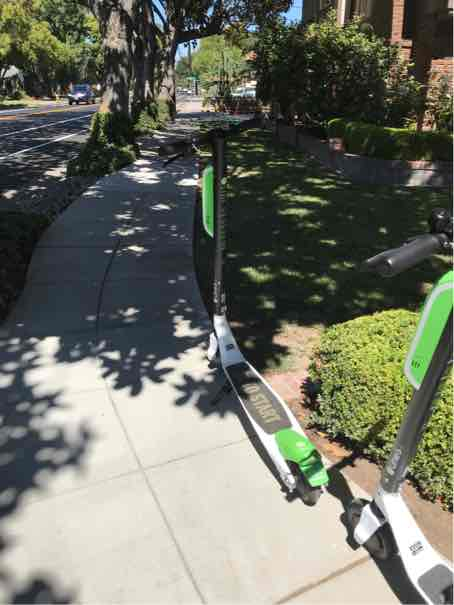scooter: (156, 115, 342, 506)
